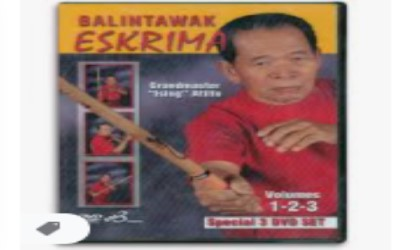baston_e: (63, 74, 212, 194)
baston_v: (49, 67, 70, 98)
